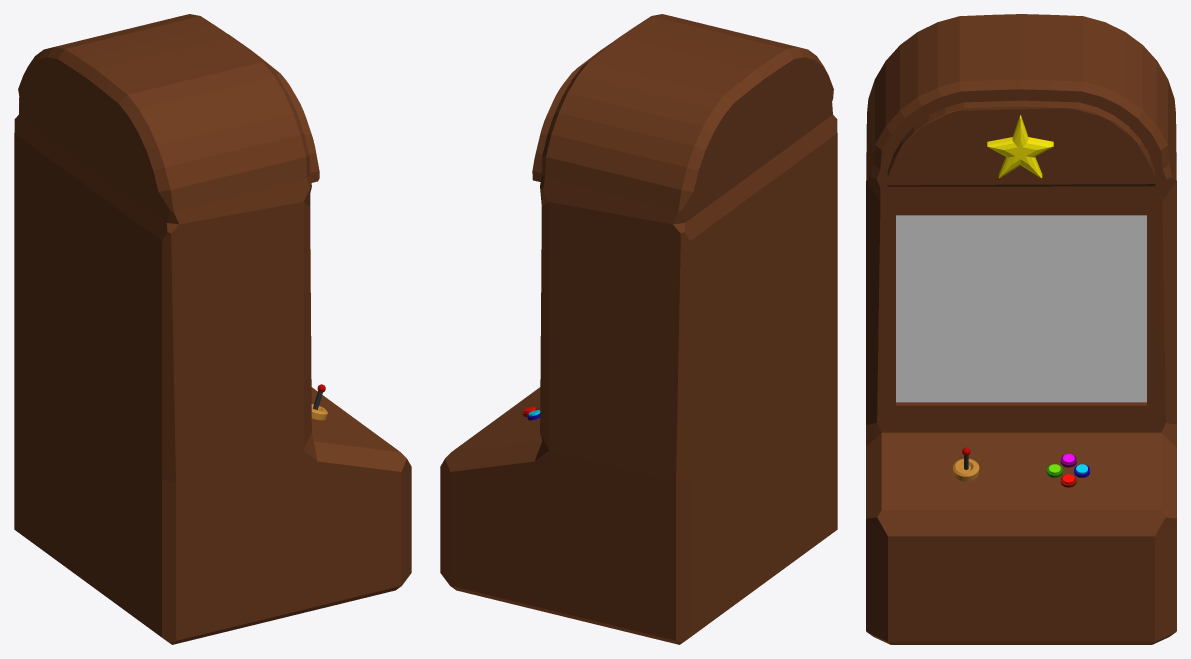
File: GameMachine.fbx
3 renders of one model, left to right at view 1: azimuth 30°, elevation 25°; view 2: azimuth 150°, elevation 25°; view 3: azimuth 270°, elevation 25°, orthographic.
Visible parts, largest first — view 1: GamMachineBody; view 2: GamMachineBody; view 3: GamMachineBody, Screen, Star, LeverBase.
Boxes of the visible parts, <box> form: GamMachineBody: <box>14,14,411,644</box>; GamMachineBody: <box>440,14,837,644</box>; GamMachineBody: <box>866,14,1176,644</box>; Screen: <box>896,215,1146,402</box>; Star: <box>987,115,1053,178</box>; LeverBase: <box>953,458,979,481</box>.
Size of the model in its own units: 187 by 364 by 199.
